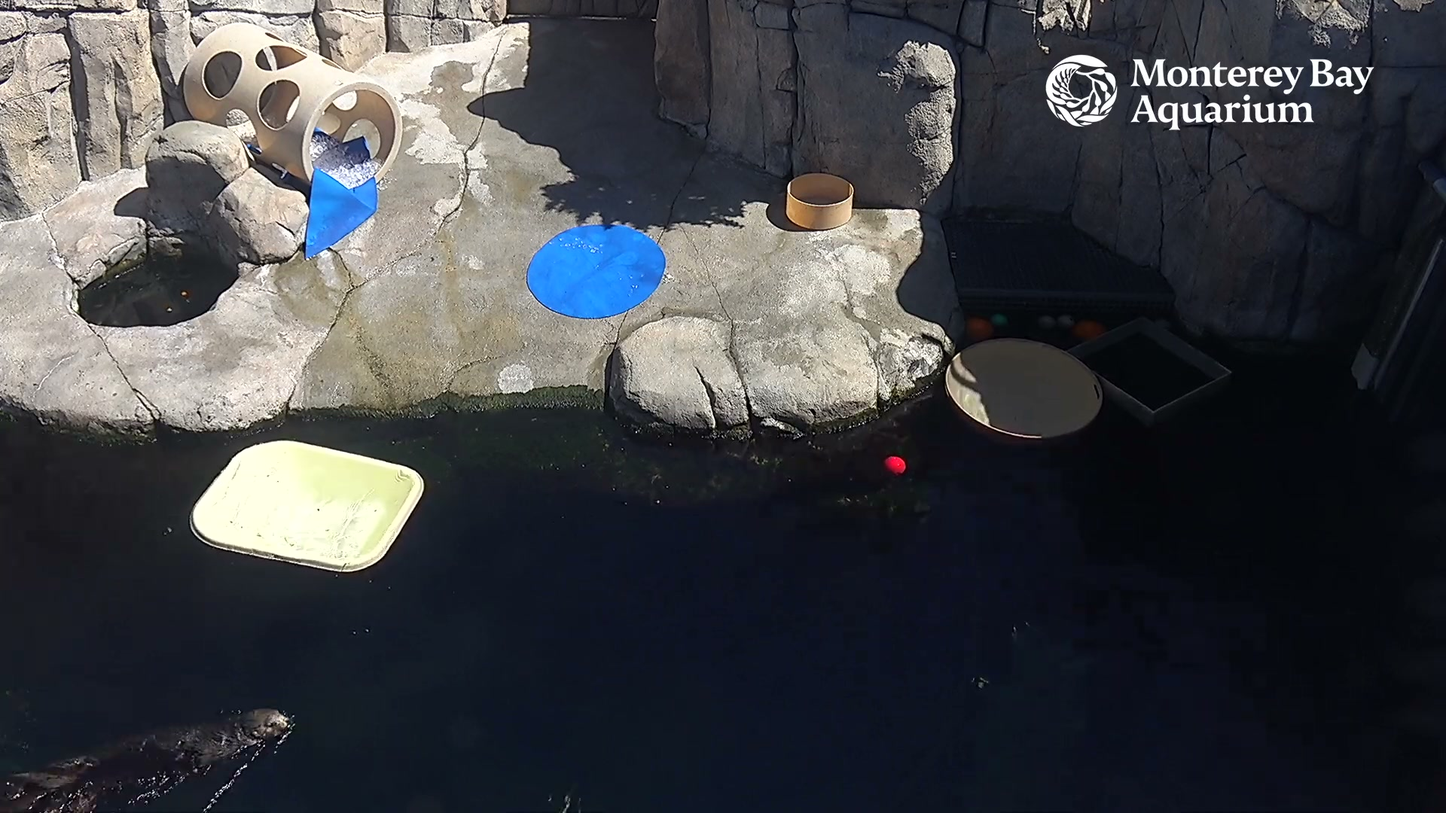Southern Sea Otter: (0, 652, 310, 813)
